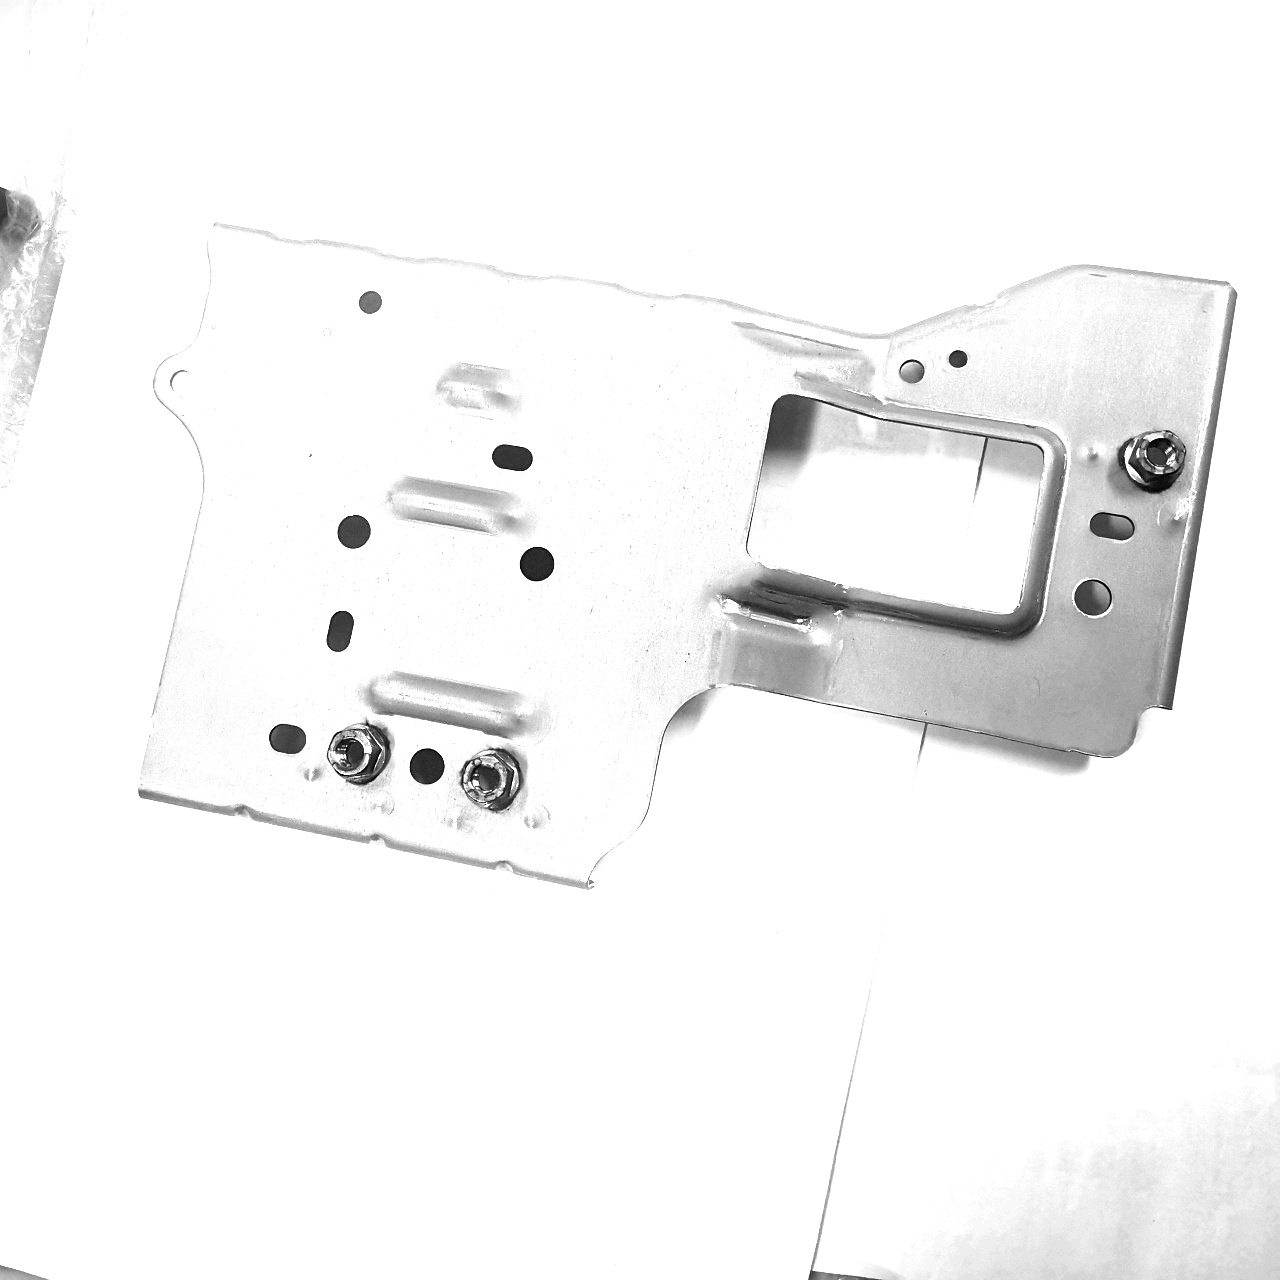dog: (1116, 424, 1189, 498), (456, 744, 527, 818), (322, 716, 394, 790)
